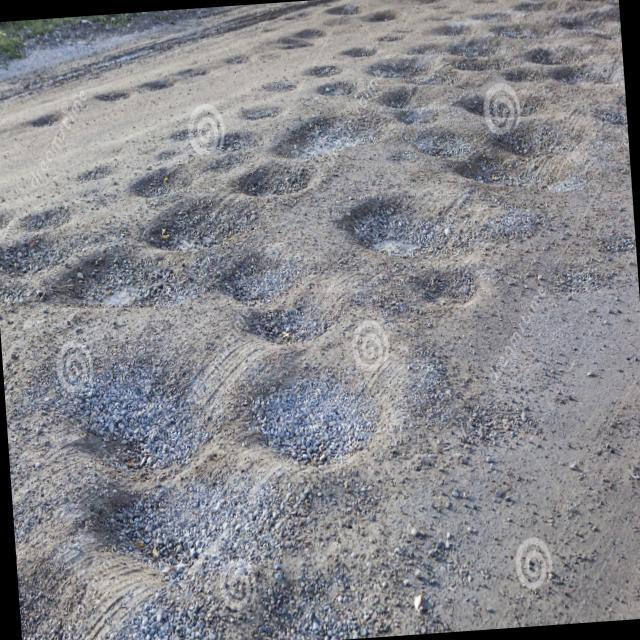Pothole: (48, 336, 224, 477), (80, 466, 249, 578), (232, 347, 390, 465), (242, 546, 415, 640), (336, 172, 470, 267), (38, 238, 184, 316), (519, 228, 639, 303), (220, 276, 347, 346), (487, 110, 597, 188), (205, 240, 330, 308), (16, 555, 111, 640), (126, 196, 268, 248), (446, 137, 568, 196), (272, 105, 388, 164), (388, 240, 494, 302), (0, 222, 86, 286), (222, 166, 312, 224), (464, 181, 546, 238), (367, 76, 456, 124), (448, 76, 524, 126), (394, 113, 472, 159), (8, 195, 100, 232), (132, 160, 200, 200), (432, 29, 508, 63), (366, 48, 440, 82), (235, 99, 298, 138), (526, 38, 610, 66), (74, 151, 134, 186), (580, 94, 628, 134), (202, 145, 270, 173), (453, 50, 518, 78), (204, 125, 266, 152), (312, 78, 371, 104), (323, 0, 377, 25), (264, 36, 318, 58), (25, 112, 71, 135), (426, 20, 477, 40), (307, 58, 348, 80), (261, 76, 310, 94), (128, 76, 164, 100), (335, 38, 376, 59), (219, 48, 262, 67), (366, 26, 406, 44), (98, 84, 128, 107), (169, 61, 202, 79), (366, 10, 397, 26), (169, 122, 199, 136)
